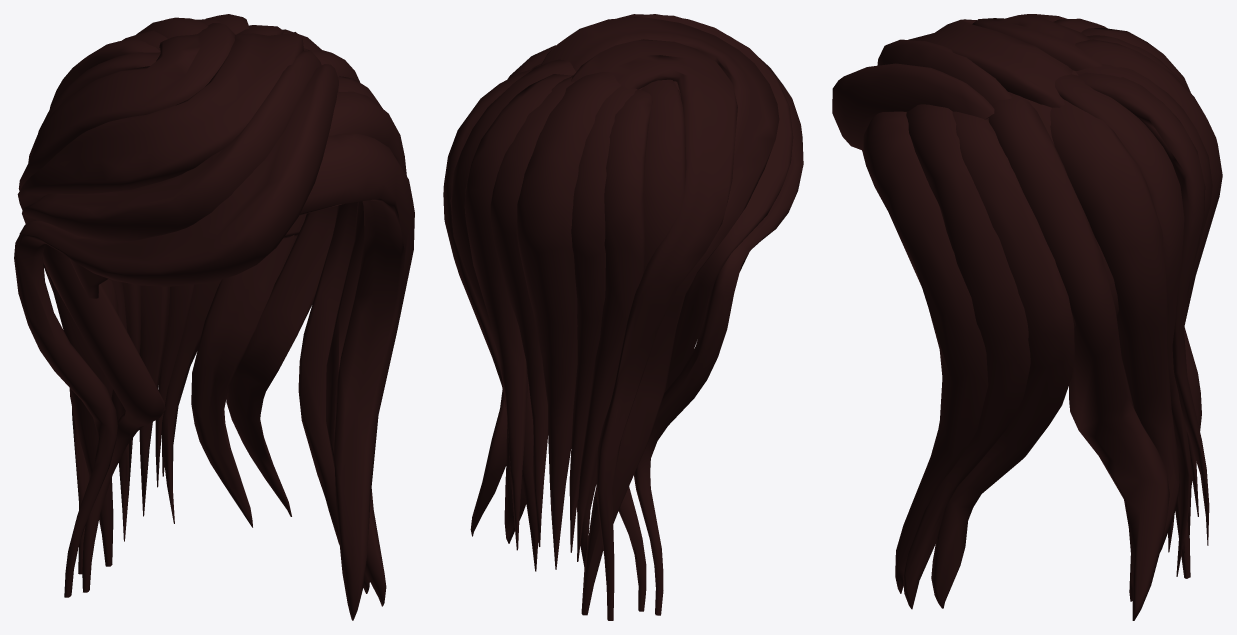
Rendered from hair-4-9c2d9e18.glb.
3 renders of one model, left to right at view 1: azimuth 30°, elevation 25°; view 2: azimuth 150°, elevation 25°; view 3: azimuth 270°, elevation 25°, orthographic. The views are drawn at different scales.
Parts seen in each view (by area): view 1: hair_4.001; view 2: hair_4.001; view 3: hair_4.001.
Part boxes in pixels (bbox=[...]): hair_4.001: bbox=[14, 14, 414, 620]; hair_4.001: bbox=[443, 14, 803, 620]; hair_4.001: bbox=[832, 14, 1222, 620].
Bounding box in the file's own units: 2.02 × 3.35 × 2.12.
